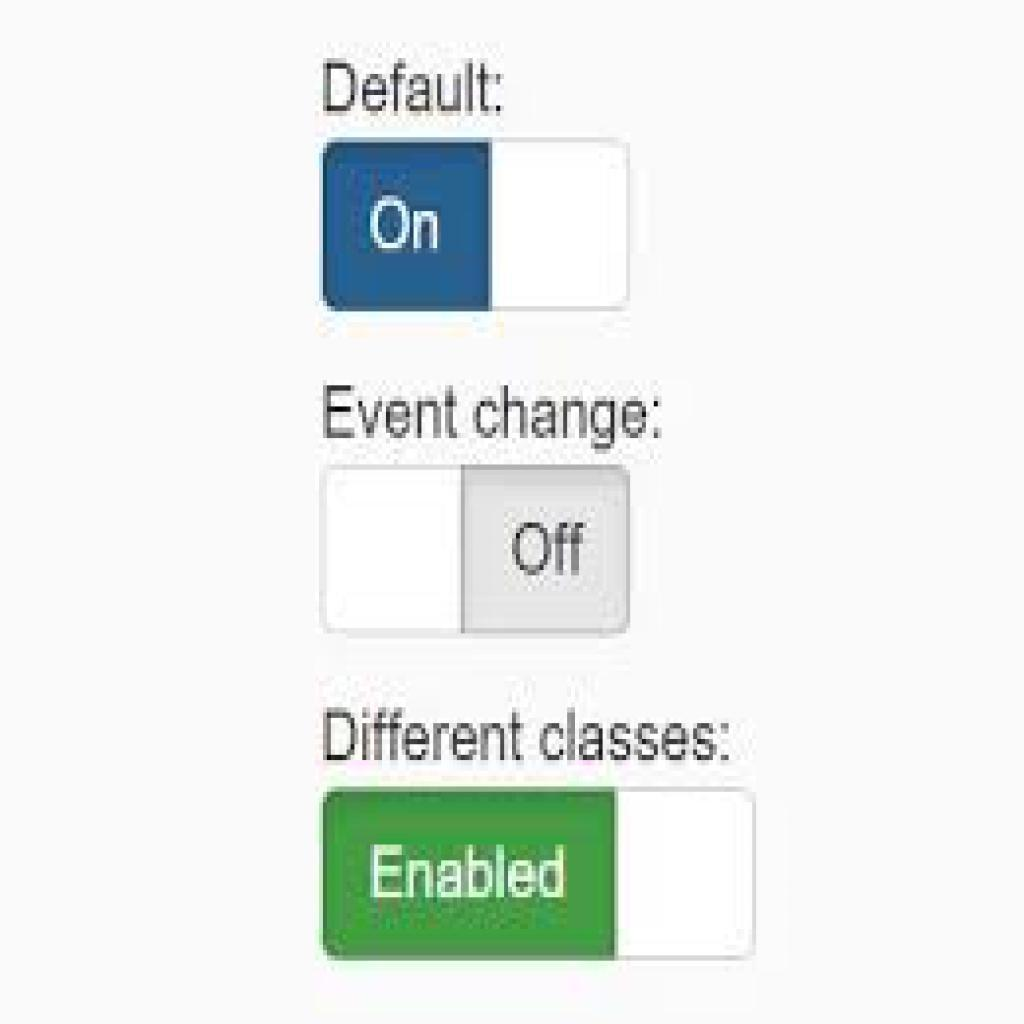switch: (325, 790, 758, 961), (322, 140, 632, 311), (322, 464, 633, 633)
